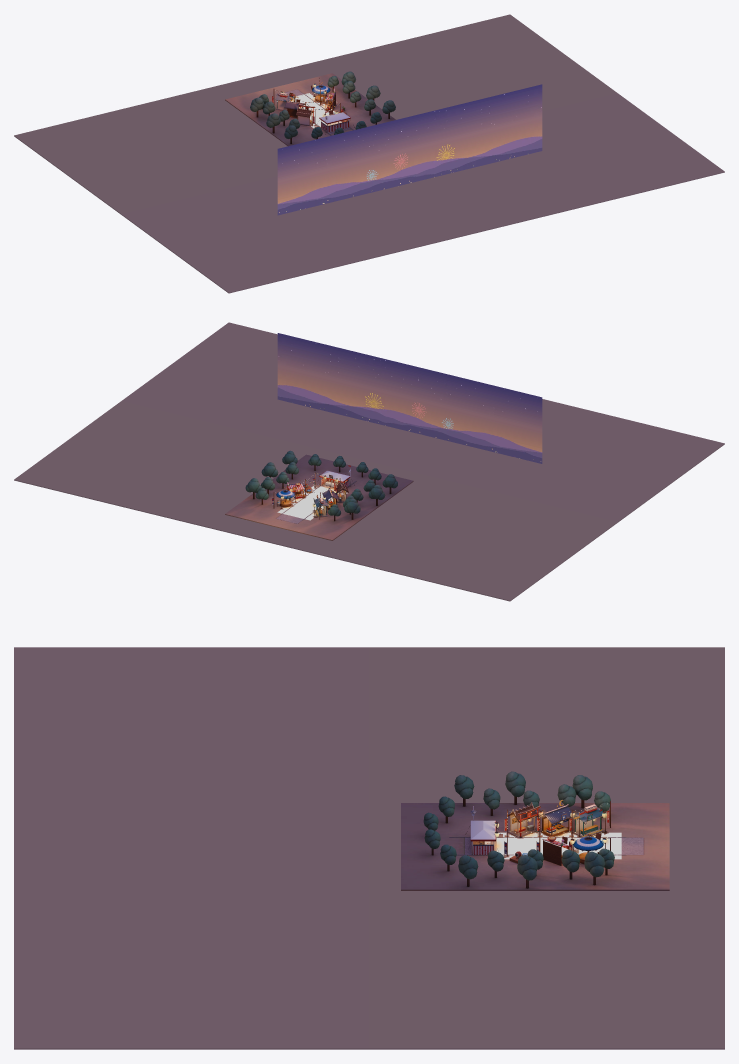
Rendered from ennichi.glb.
3 views of the same model, one above another, from view 1: azimuth 30°, elevation 25°; view 2: azimuth 150°, elevation 25°; view 3: azimuth 270°, elevation 25° (orthographic). The views are drawn at different scales.
Parts seen in each view (by area): view 1: street.far, backdrop, baked.street, baked.trees, nav.street, baked.stall_headquarters; view 2: street.far, backdrop, baked.street, baked.trees, nav.street; view 3: street.far, baked.street, baked.trees, nav.street, baked.stall_headquarters, baked.road, baked.stall_lodging, baked.stall_access, baked.stall_etiquette.
Boxes of the visible parts, x1,y1,x2,y2 form: street.far: (14, 14, 724, 293); backdrop: (277, 84, 542, 215); baked.street: (225, 73, 395, 146); baked.trees: (250, 71, 395, 143); nav.street: (277, 93, 339, 128); baked.stall_headquarters: (319, 110, 354, 134); street.far: (14, 322, 724, 601); backdrop: (277, 333, 542, 463); baked.street: (225, 454, 413, 540); baked.trees: (245, 450, 397, 521); nav.street: (277, 485, 347, 520); street.far: (14, 647, 724, 1049); baked.street: (401, 803, 669, 890); baked.trees: (423, 771, 614, 888); nav.street: (496, 832, 621, 859); baked.stall_headquarters: (465, 806, 500, 854); baked.road: (449, 837, 643, 855); baked.stall_lodging: (537, 800, 575, 836); baked.stall_access: (573, 804, 607, 837); baked.stall_etiquette: (507, 802, 543, 837).
Bounding box in the file's own units: 120 × 16 × 90.
16 materials, 15 textured.
